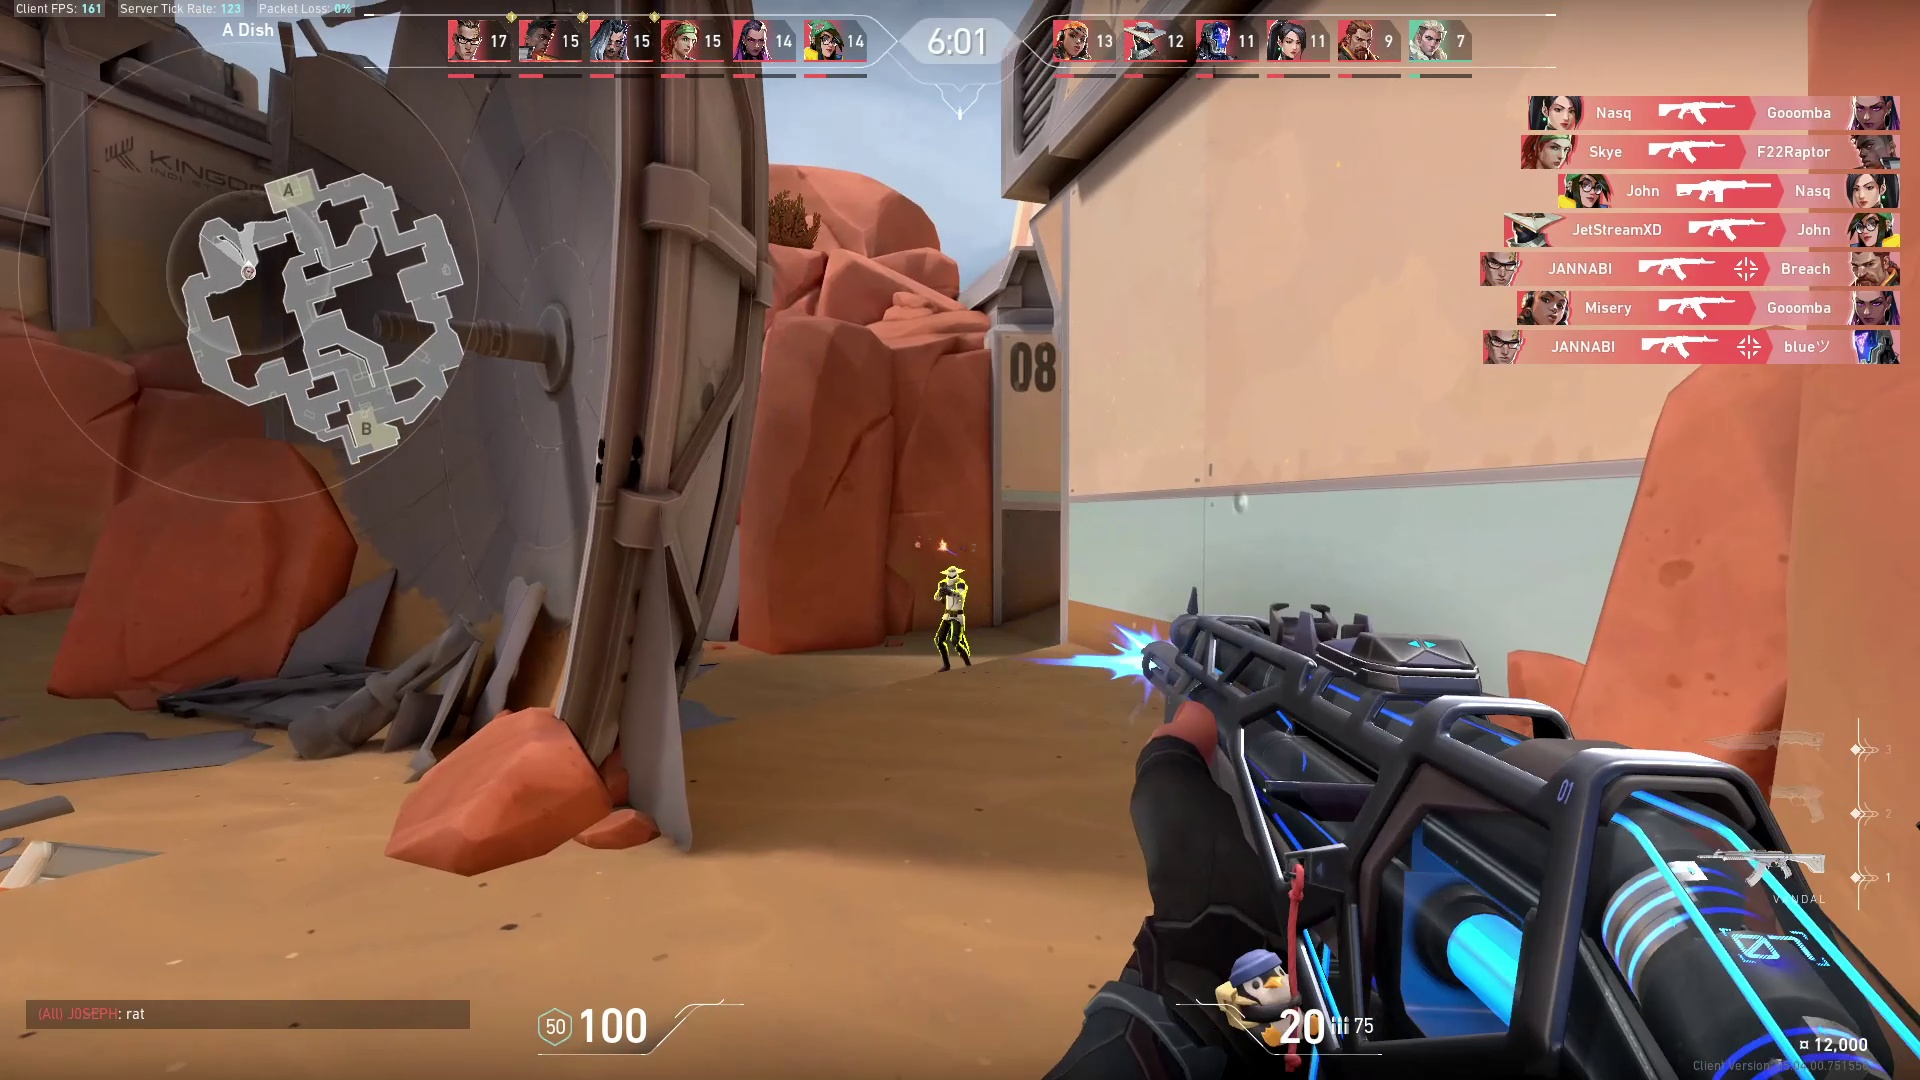enemy_body: (923, 580, 994, 675)
enemy_head: (930, 559, 972, 585)
